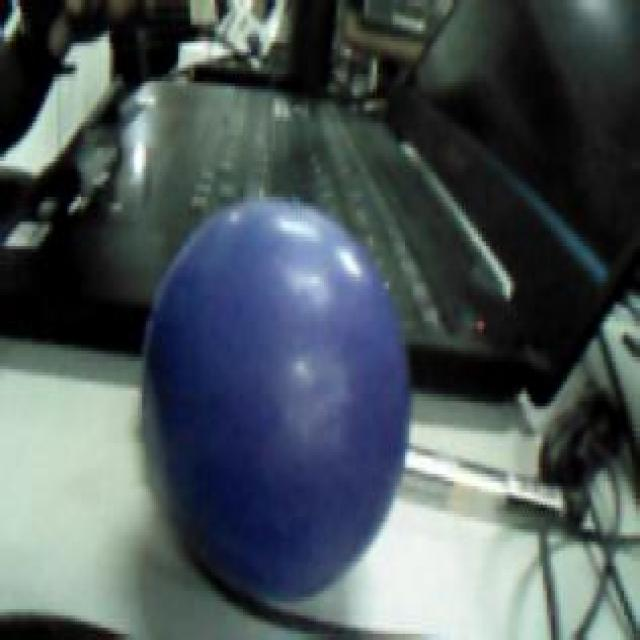BallPurple: (141, 199, 409, 597)
